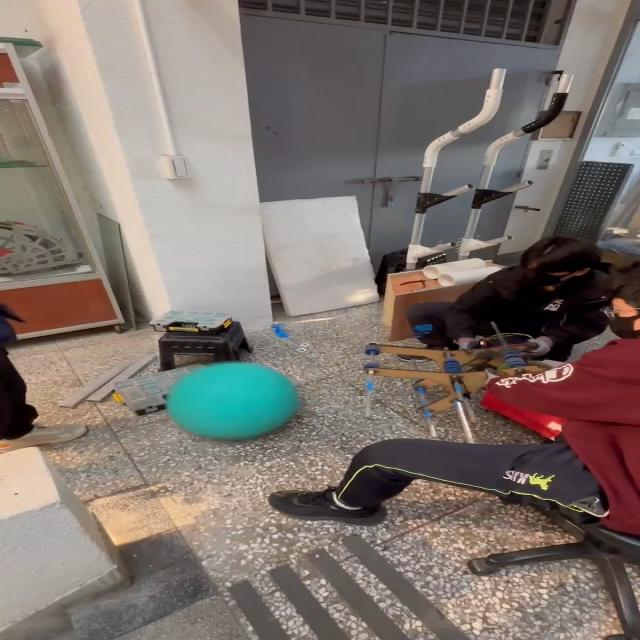ALGAE: (164, 361, 300, 441)
